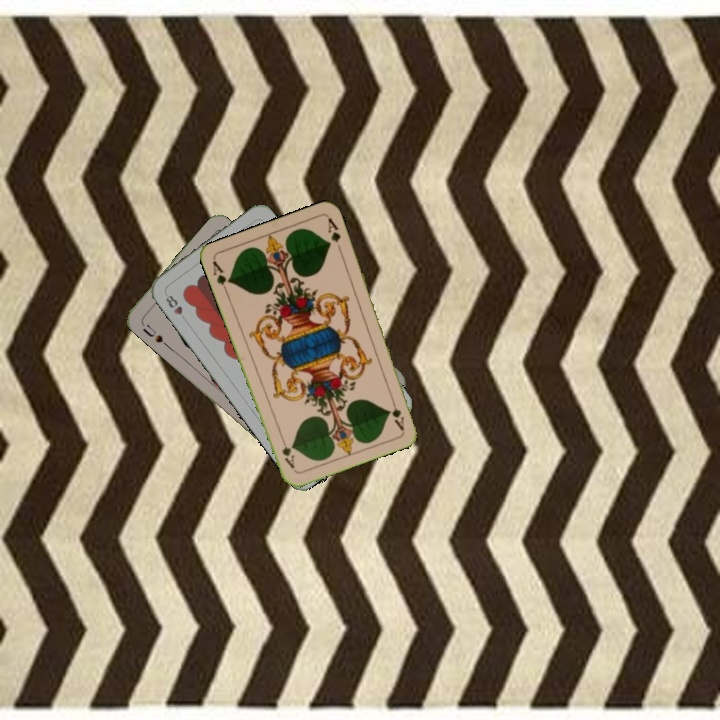GA: (208, 257, 233, 296), (386, 392, 407, 432)
H8: (161, 291, 185, 318)
SU: (138, 320, 166, 345)
